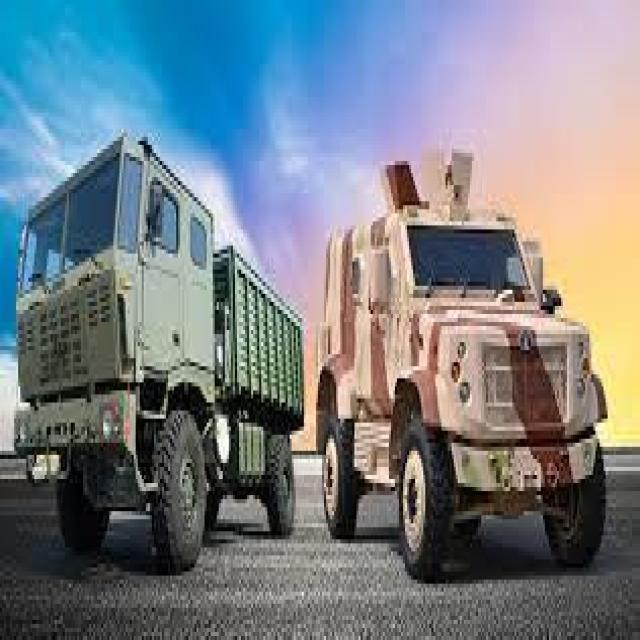MIL_MBT: (35, 85, 307, 616), (295, 105, 576, 616)
